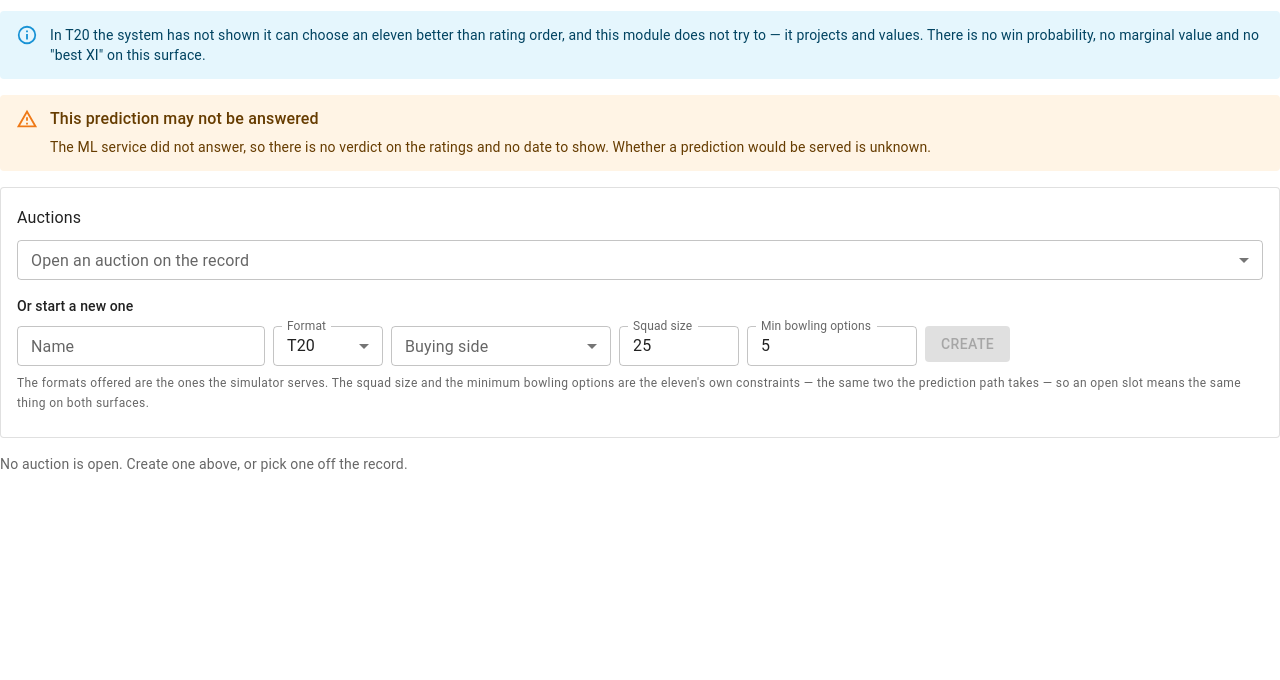
Scenario: AuctionTab › records a sale with its buyer and price, and re-renders from the answer
Click the dropdown named "Open an auction on the record" next to "Open an auction on the record".
click(640, 260)  # box [17, 240, 1263, 280]
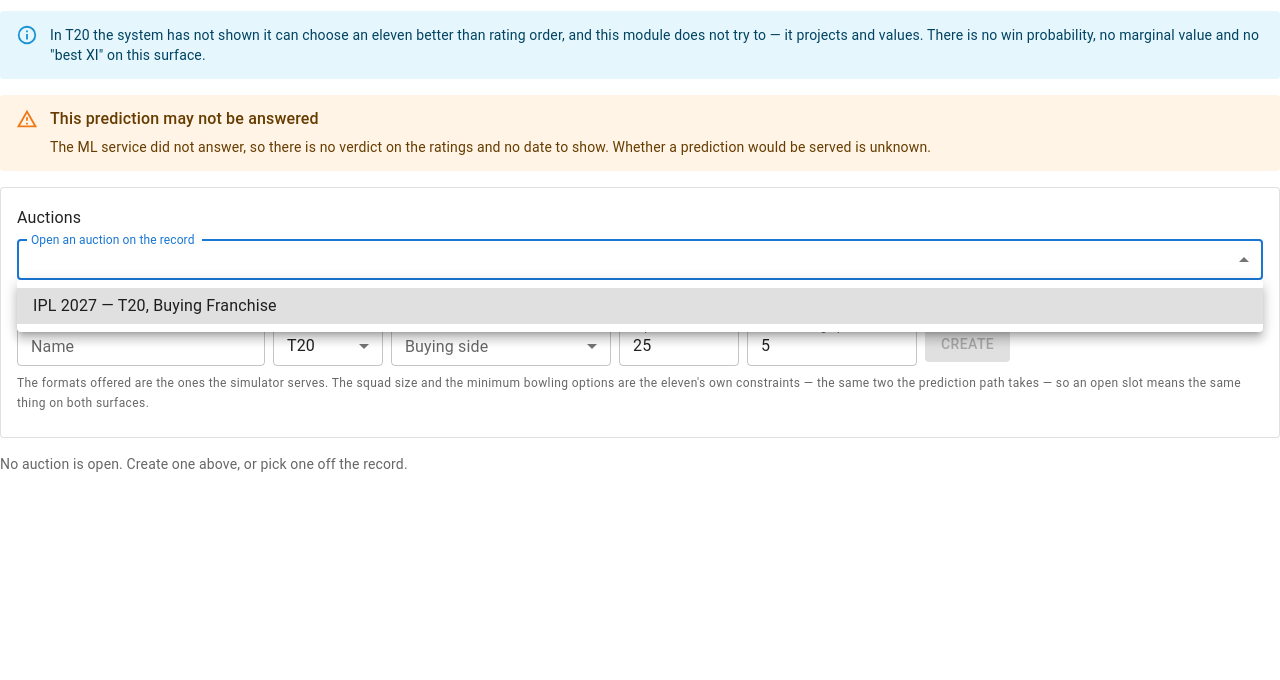
Click the option "IPL 2027 — T20, Buying Franchise".
click(65, 306)  # box [17, 288, 1263, 324]
(page scrolled)
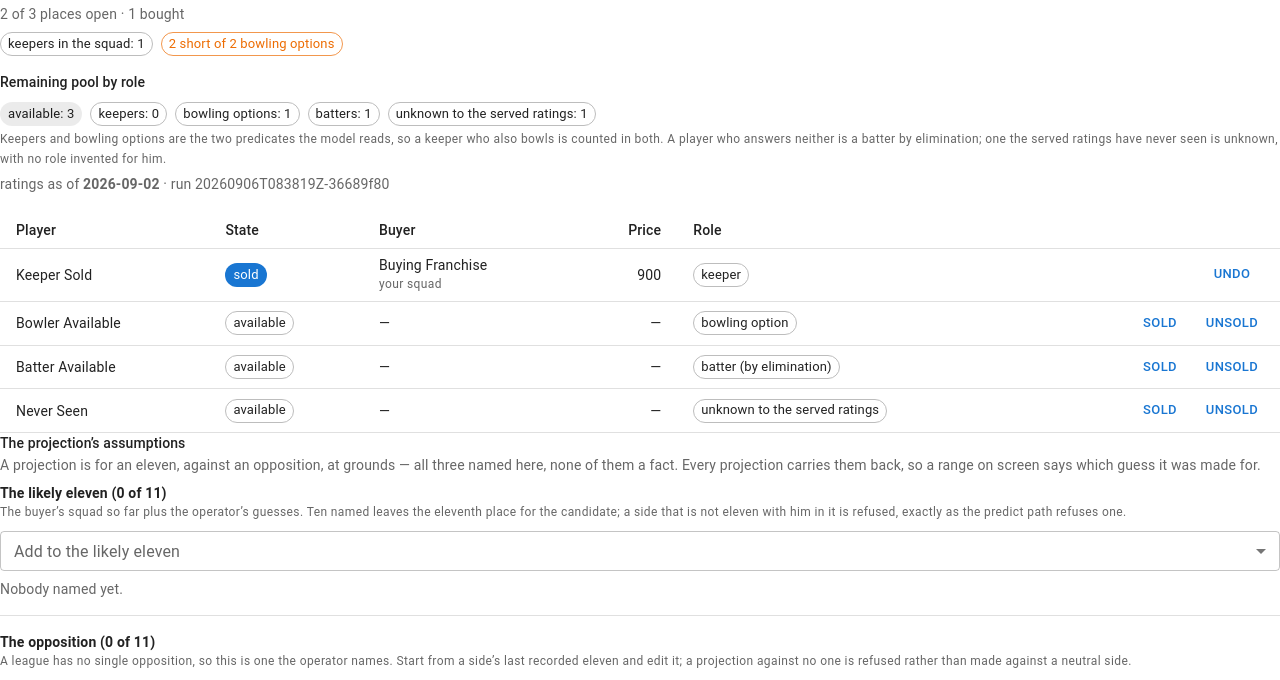
Click the button "Sold" in the row of "Bowler Available".
click(1160, 323)  # box [1128, 308, 1192, 339]
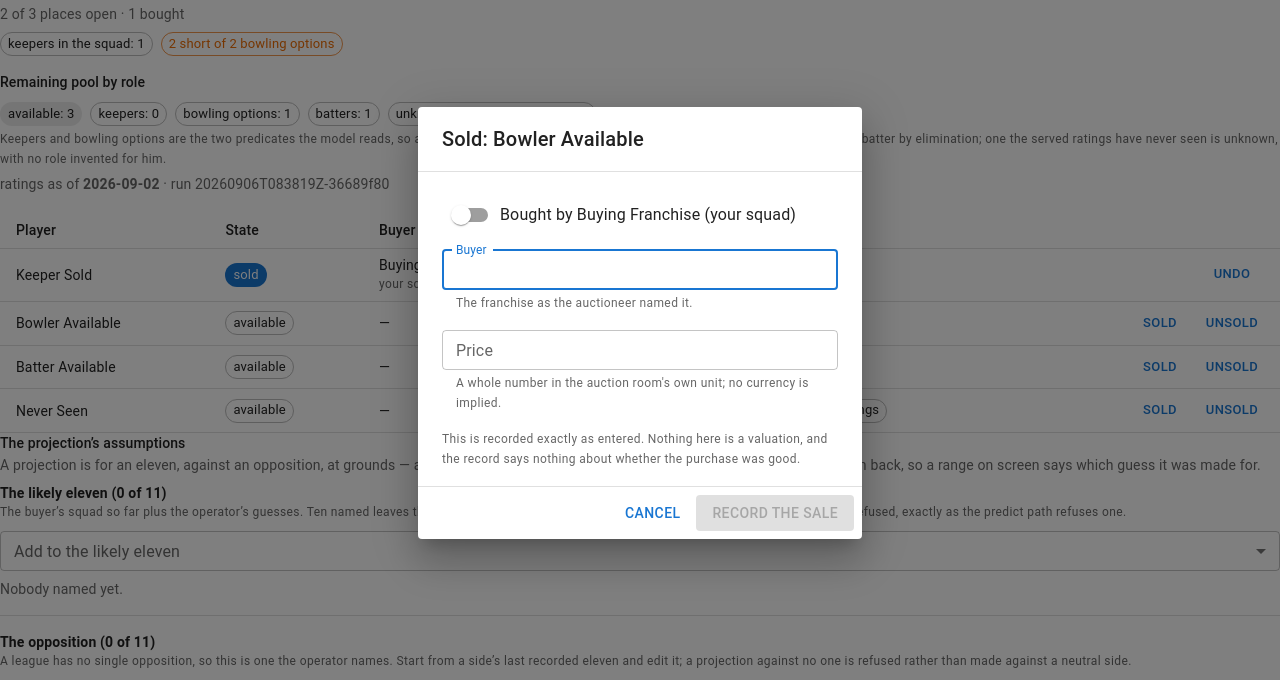
Type "Rival Franchise" into the field labelled "Buyer".
click(640, 270); type("Rival Franchise")  # box [442, 250, 838, 290]
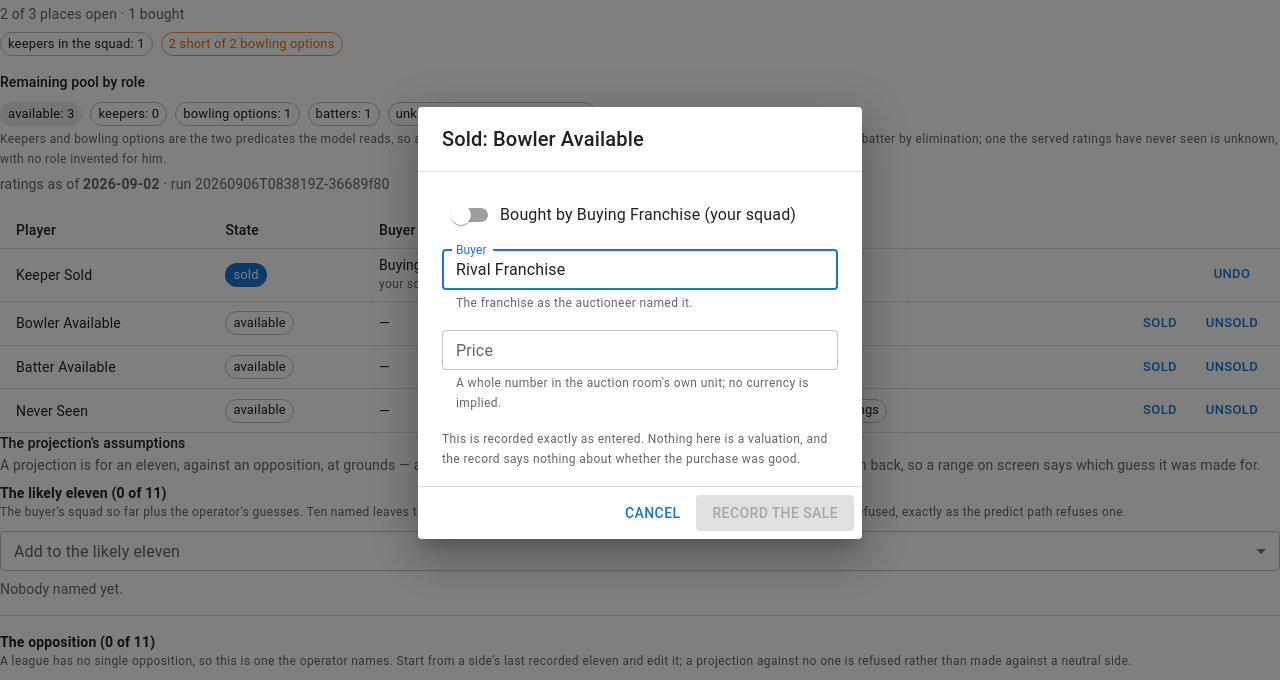
Type "450" into the field labelled "Price".
click(640, 350); type("450")  # box [442, 330, 838, 370]
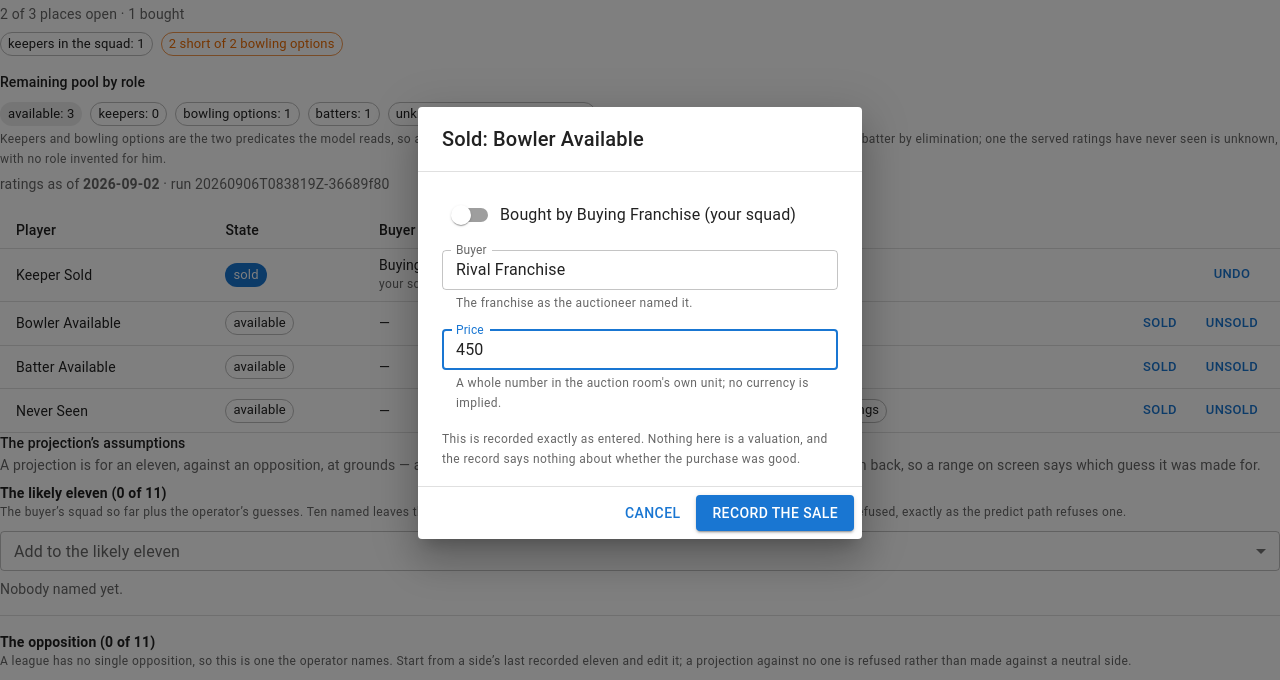
Click the button "Record the sale".
click(775, 513)  # box [696, 494, 854, 531]
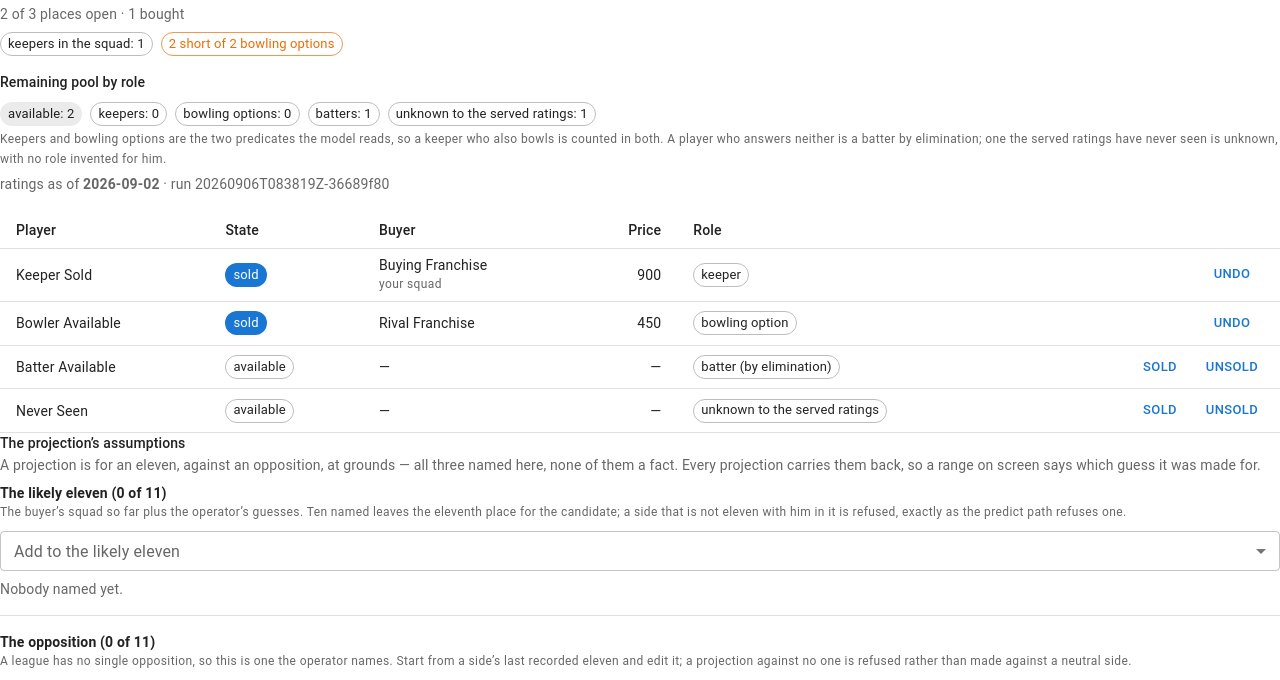
Now the element with test id "auction-available-bowling-options" reads "bowling options: 0", box [183, 106, 292, 121]
